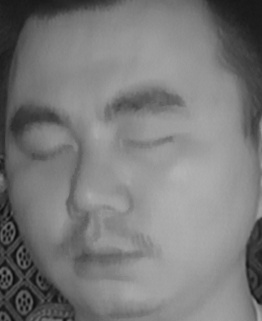blink: (119, 121, 175, 159), (21, 134, 74, 172)
mouth: (59, 228, 150, 287)
